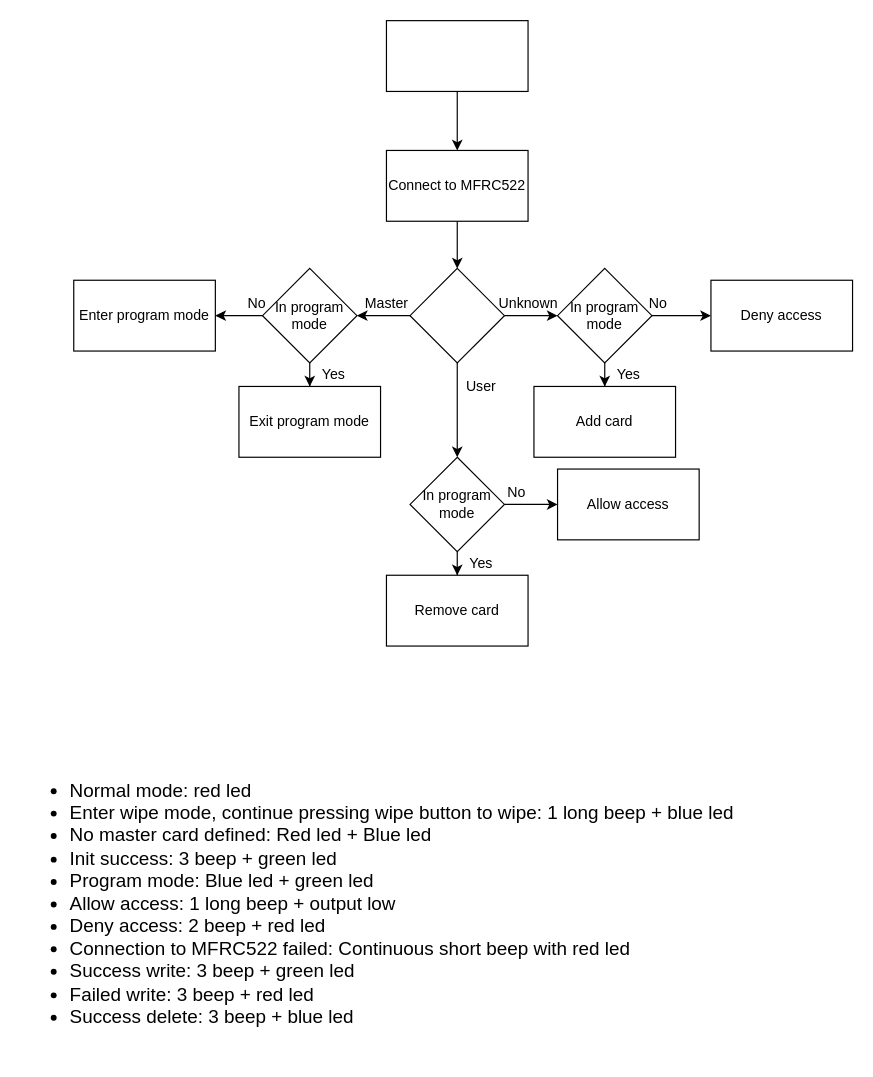
This 873x1077 diagram has some shape labels left out. Here are the shapes that lost their labels. From the top down, the centre of each, then its label:
point (456, 55): Boot
point (456, 315): Card recognised
